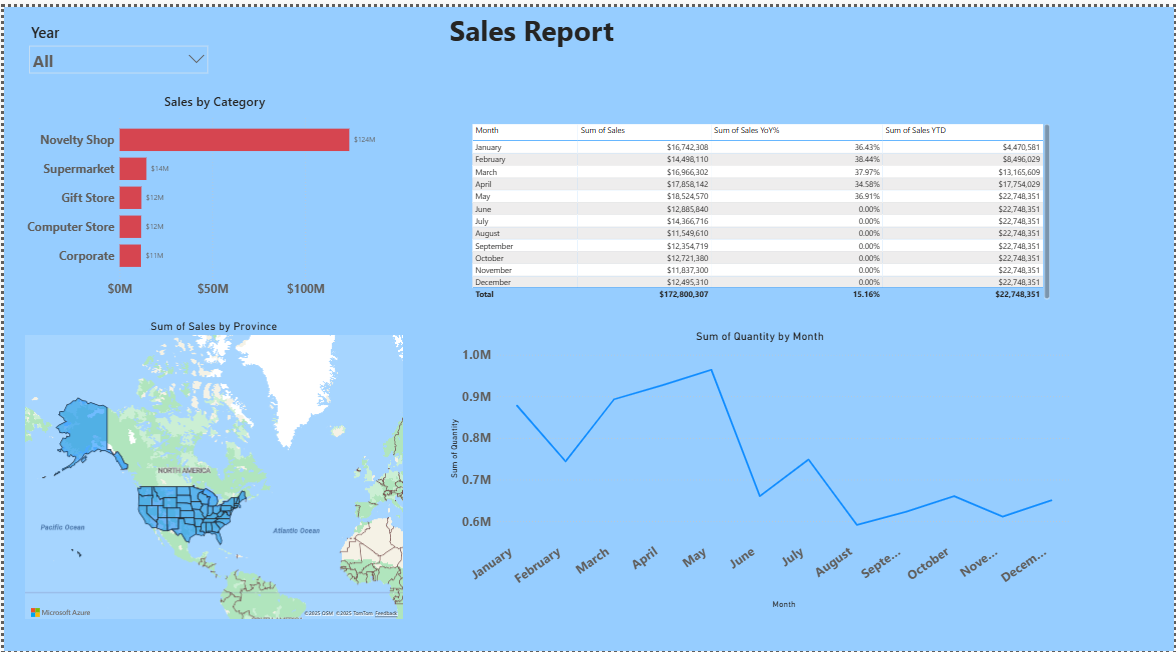

What the dashboard file says about the page in this screenshot:
{"tool":"powerbi","page":{"name":"Page 1","canvas":[2000,1100],"ordinal":0},"visuals":[{"type":"slicer","fields":{"Values":["InvoiceData.Date.Variation.Date Hierarchy.Year"]},"box":[33.3,20.5,325.6,105.1],"z":0},{"type":"clusteredBarChart","title":"Sales by Category","fields":{"Category":["MasterCustomer.CustomerCategoryName"],"Y":["Sum(InvoiceData.Sales)"]},"box":[33.3,146.2,653.8,359],"z":1000},{"type":"tableEx","fields":{"Values":["InvoiceData.Date.Variation.Date Hierarchy.Month","Sum(InvoiceData.Sales)","InvoiceData.Sum of Sales YoY%","InvoiceData.Sum of Sales YTD"]},"box":[794.9,194.9,997.4,310.3],"z":2000},{"type":"azureMap","fields":{"Category":["MasterCustomer.Province"]},"box":[30.8,533.3,656.4,517.9],"z":3000},{"type":"lineChart","fields":{"Y":["Sum(InvoiceData.Quantity)"],"Category":["InvoiceData.Date.Variation.Date Hierarchy.Month"]},"box":[756.4,551.3,1071.8,482.1],"z":4000},{"type":"textbox","box":[757.1,0,309.5,73.8],"z":5000}]}

Visuals, with their boxes in screenshot pixels (x1, y1, x2, y2), scaled from the page's 2000x1100 canvas onto the 1176x652 screenshot:
slicer - InvoiceData.Date.Variation.Date Hierarchy.Year: l=20, t=12, r=211, b=74
"Sales by Category" clusteredBarChart: l=20, t=87, r=404, b=299
tableEx - InvoiceData.Date.Variation.Date Hierarchy.Month x Sum(InvoiceData.Sales): l=467, t=116, r=1054, b=299
azureMap - MasterCustomer.Province: l=18, t=316, r=404, b=623
lineChart - Sum(InvoiceData.Quantity) x InvoiceData.Date.Variation.Date Hierarchy.Month: l=445, t=327, r=1075, b=613
textbox: l=445, t=0, r=627, b=44
